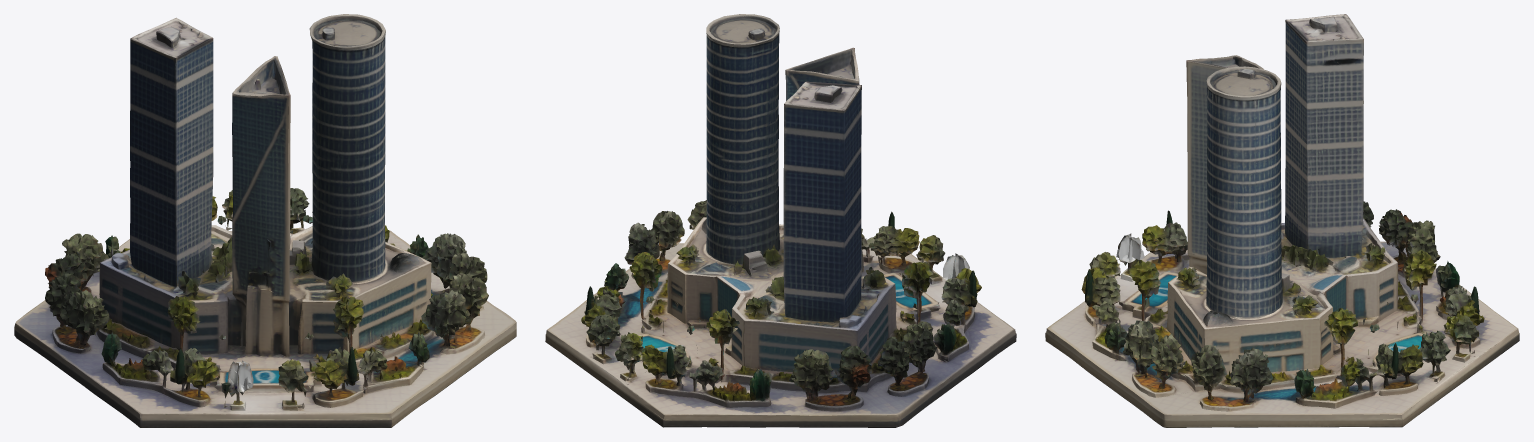
Rendered from lm_azrieli_towers.glb.
3 renders of one model, left to right at view 1: azimuth 30°, elevation 25°; view 2: azimuth 150°, elevation 25°; view 3: azimuth 270°, elevation 25°, orthographic. The views are drawn at different scales.
Parts seen in each view (by area): view 1: geometry_0; view 2: geometry_0; view 3: geometry_0.
Boxes of the visible parts, x1=… form: geometry_0: x1=14, y1=14, x2=516, y2=427; geometry_0: x1=545, y1=14, x2=1016, y2=427; geometry_0: x1=1045, y1=14, x2=1519, y2=427.
Size of the model in its own units: 0.9996 by 0.7754 by 1.15.
1 material, 1 textured.
